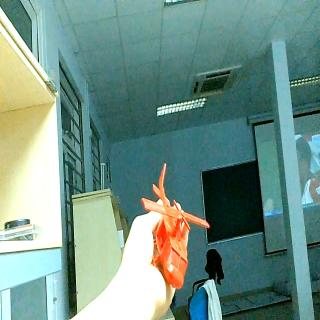Helicopter: (142, 160, 209, 289)
